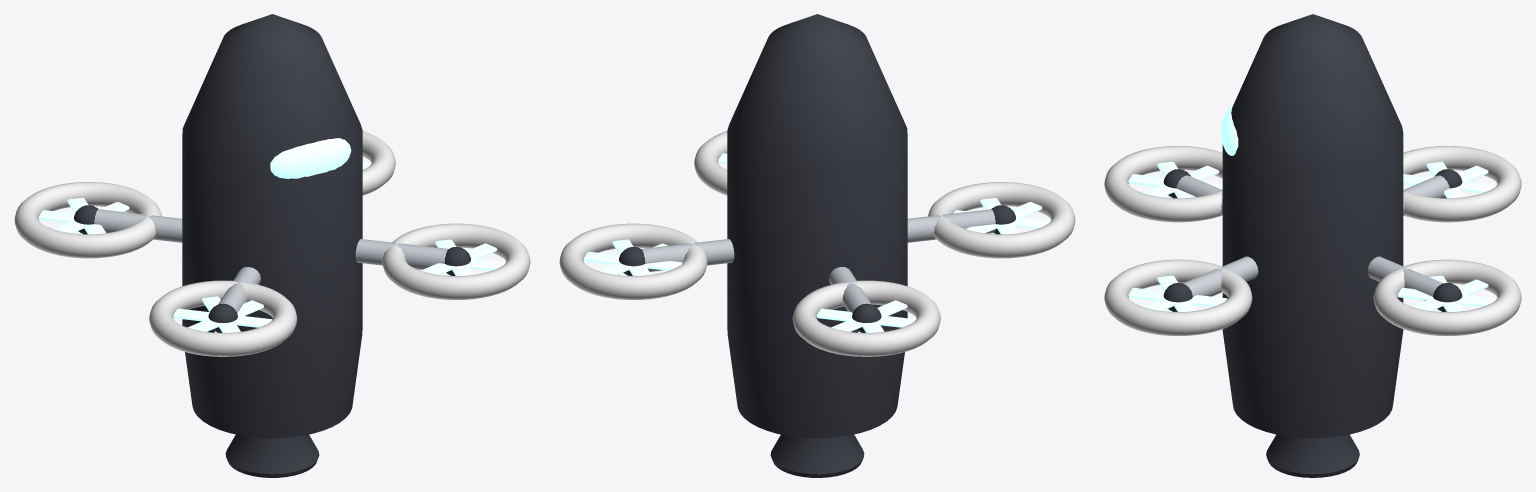
The model's file is Rocket_18_DroneRocket.fbx.
3 views of the same model, side by side, from view 1: azimuth 30°, elevation 25°; view 2: azimuth 150°, elevation 25°; view 3: azimuth 270°, elevation 25° (orthographic).
Visible parts, largest first — view 1: R18_Body, R18_Duct_2, R18_Duct_4, R18_Duct_3, R18_Nozzle, R18_Eye, R18_Arm_4, R18_Arm_2, R18_Duct, R18_Arm_3, R18_Prop_9, R18_Prop_10; view 2: R18_Body, R18_Duct_3, R18_Duct, R18_Duct_2, R18_Nozzle, R18_Arm, R18_Duct_4, R18_Arm_3, R18_Arm_2, R18_Prop_4, R18_Prop, R18_Prop_5; view 3: R18_Body, R18_Duct_4, R18_Duct, R18_Duct_2, R18_Duct_3, R18_Nozzle, R18_Arm_4, R18_Arm, R18_Arm_2, R18_Prop_11, R18_Prop_2, R18_Arm_3 (+6 smaller).
Part boxes in pixels (box(x1,y1,x2,y2)): R18_Body: box(182, 14, 362, 438); R18_Duct_2: box(14, 182, 161, 258); R18_Duct_4: box(382, 223, 530, 299); R18_Duct_3: box(149, 280, 297, 356); R18_Nozzle: box(225, 434, 319, 477); R18_Eye: box(270, 138, 351, 178); R18_Arm_4: box(355, 239, 448, 269); R18_Arm_2: box(94, 209, 182, 242); R18_Duct: box(362, 131, 395, 195); R18_Arm_3: box(218, 267, 260, 313); R18_Prop_9: box(173, 308, 272, 327); R18_Prop_10: box(421, 243, 497, 274); R18_Body: box(727, 14, 907, 438); R18_Duct_3: box(928, 182, 1075, 258); R18_Duct: box(559, 223, 707, 299); R18_Duct_2: box(792, 280, 940, 356); R18_Nozzle: box(770, 434, 864, 477); R18_Arm: box(641, 239, 734, 271); R18_Duct_4: box(694, 131, 727, 195); R18_Arm_3: box(907, 209, 995, 242); R18_Arm_2: box(829, 267, 871, 313); R18_Prop_4: box(816, 308, 915, 327); R18_Prop: box(583, 251, 682, 270); R18_Prop_5: box(831, 300, 907, 331); R18_Body: box(1222, 14, 1403, 438); R18_Duct_4: box(1104, 259, 1252, 335); R18_Duct: box(1373, 259, 1521, 335); R18_Duct_2: box(1403, 146, 1521, 222); R18_Duct_3: box(1104, 146, 1222, 222); R18_Nozzle: box(1266, 434, 1359, 477); R18_Arm_4: box(1183, 256, 1258, 296); R18_Arm: box(1367, 256, 1442, 300); R18_Arm_2: box(1403, 175, 1449, 215); R18_Prop_11: box(1128, 288, 1227, 306); R18_Prop_2: box(1397, 287, 1496, 306); R18_Arm_3: box(1176, 175, 1222, 215).
Bounding box in the file's own units: 4.17 × 4.9 × 4.17.
